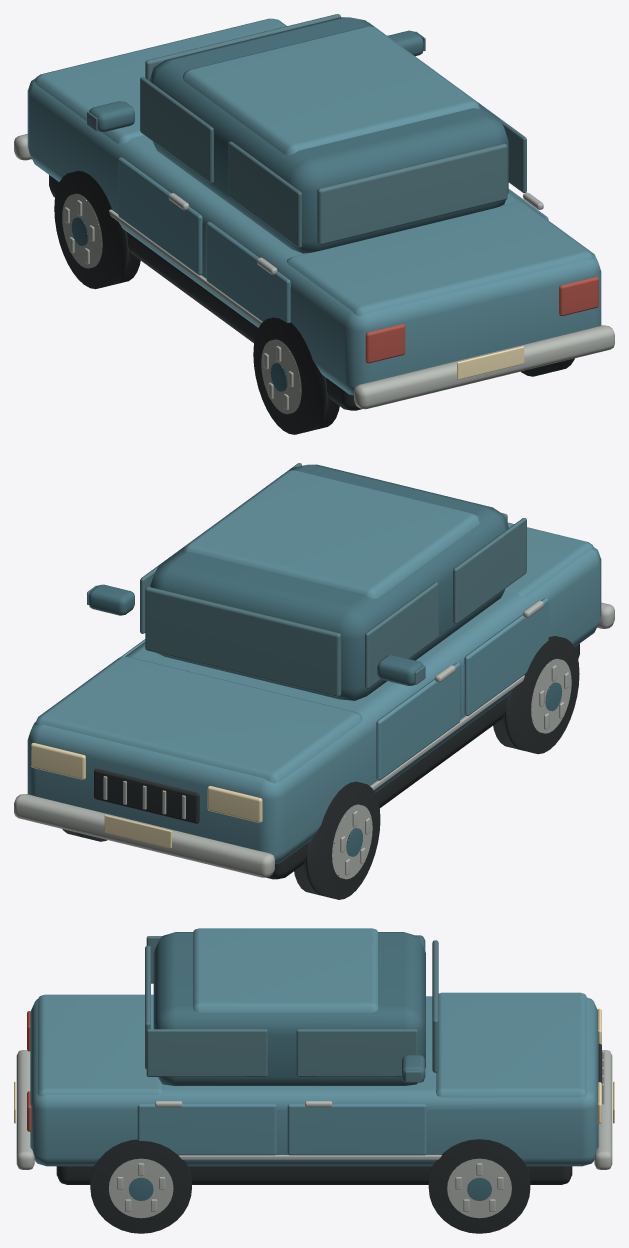
Rendered from A002_harbor_compact_car.glb.
3 renders of one model, top to bottom at view 1: azimuth 30°, elevation 25°; view 2: azimuth 150°, elevation 25°; view 3: azimuth 270°, elevation 25°, orthographic. The views are drawn at different scales.
Parts seen in each view (by area): view 1: Painted body, Roof panel, Cabin shell, Rear deck, Rear glass, Front bonnet, Rear bumper, Left front door skin, Left rear door skin, Left front tire, Left rear tire, Left rear window (+11 smaller); view 2: Painted body, Front bonnet, Roof panel, Cabin shell, Windshield, Front bumper, Left front door skin, Left rear door skin, Left front tire, Left rear tire, Left rear window, Left front window (+11 smaller); view 3: Painted body, Front bonnet, Roof panel, Cabin shell, Rear deck, Right front door skin, Right rear door skin, Underframe, Right rear window, Right front window, Right front tire, Right rear tire (+10 smaller).
Part boxes in pixels (x1=…): Painted body: x1=27, y1=78, x2=601, y2=395; Roof panel: x1=183, y1=26, x2=479, y2=154; Cabin shell: x1=149, y1=17, x2=508, y2=253; Rear deck: x1=287, y1=202, x2=593, y2=316; Rear glass: x1=317, y1=143, x2=507, y2=244; Front bonnet: x1=35, y1=18, x2=286, y2=143; Rear bumper: x1=354, y1=325, x2=614, y2=409; Left front door skin: x1=118, y1=157, x2=202, y2=275; Left rear door skin: x1=206, y1=222, x2=290, y2=322; Left front tire: x1=54, y1=171, x2=140, y2=289; Left rear tire: x1=253, y1=317, x2=339, y2=434; Left rear window: x1=228, y1=141, x2=301, y2=247; Painted body: x1=27, y1=547, x2=601, y2=863; Front bonnet: x1=35, y1=656, x2=361, y2=783; Roof panel: x1=183, y1=470, x2=479, y2=598; Cabin shell: x1=150, y1=464, x2=508, y2=700; Windshield: x1=145, y1=587, x2=341, y2=696; Front bumper: x1=14, y1=794, x2=274, y2=877; Left front door skin: x1=376, y1=662, x2=460, y2=780; Left rear door skin: x1=464, y1=598, x2=548, y2=715; Left front tire: x1=294, y1=781, x2=380, y2=899; Left rear tire: x1=493, y1=636, x2=579, y2=754; Left rear window: x1=453, y1=518, x2=526, y2=623; Left front window: x1=365, y1=582, x2=438, y2=688; Painted body: x1=30, y1=996, x2=598, y2=1166; Front bonnet: x1=436, y1=992, x2=587, y2=1097; Roof panel: x1=193, y1=928, x2=378, y2=1012; Cabin shell: x1=153, y1=932, x2=425, y2=1085; Rear deck: x1=37, y1=994, x2=162, y2=1096; Right front door skin: x1=287, y1=1104, x2=426, y2=1155; Right rear door skin: x1=137, y1=1104, x2=276, y2=1155; Underframe: x1=56, y1=1166, x2=572, y2=1184; Right rear window: x1=146, y1=1029, x2=267, y2=1076; Right front window: x1=296, y1=1029, x2=417, y2=1076; Right front tire: x1=428, y1=1139, x2=530, y2=1233; Right rear tire: x1=90, y1=1139, x2=191, y2=1233.
Size of the model in its own units: 2.35 by 1.71 by 4.37.
